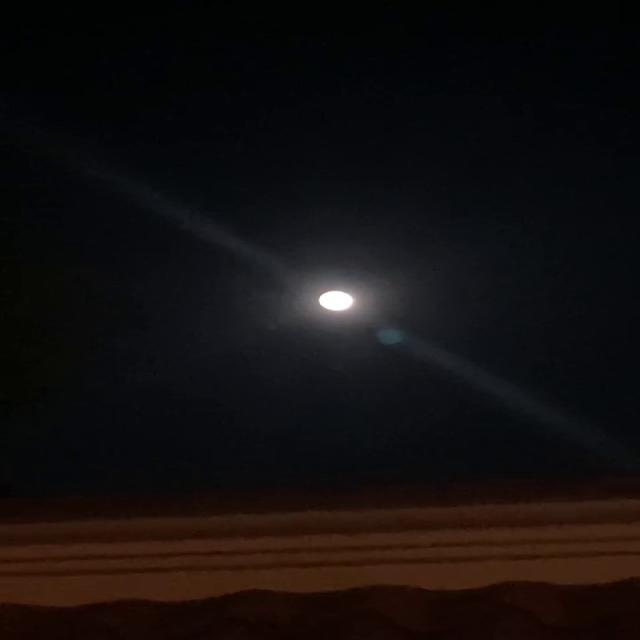moon: (307, 286, 359, 316)
